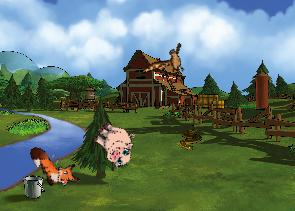eagle: (139, 33, 196, 92)
fox: (26, 134, 83, 196)
pig: (86, 116, 142, 171)
